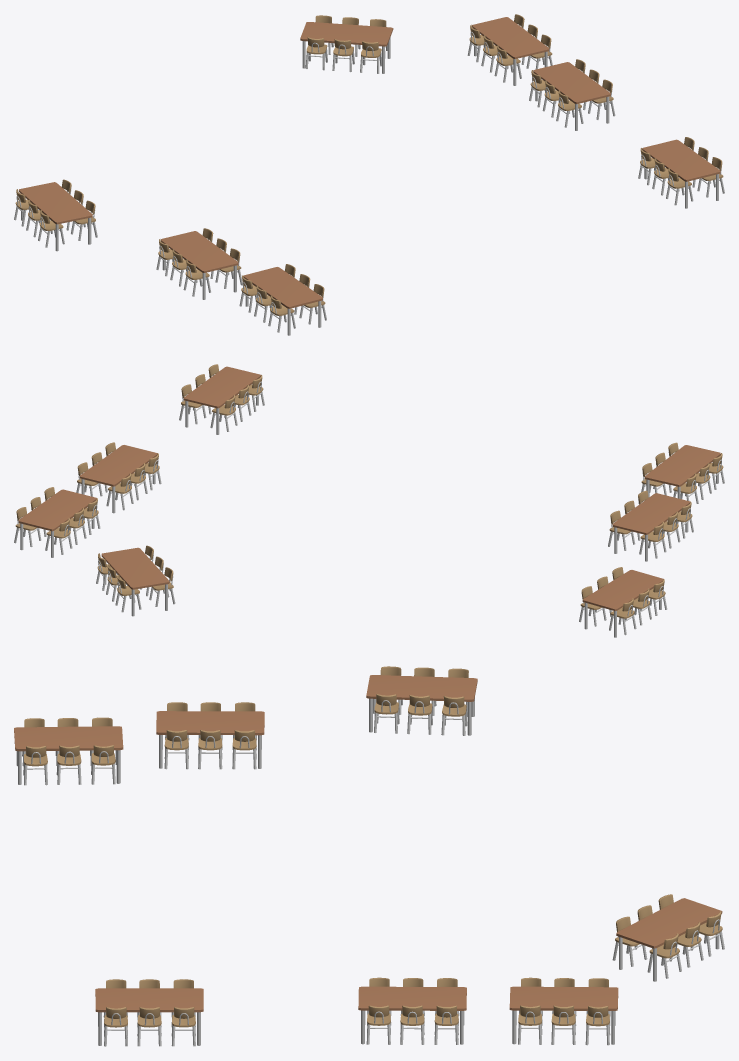
3 renders of one model, top to bottom at view 1: azimuth 30°, elevation 25°; view 2: azimuth 150°, elevation 25°; view 3: azimuth 270°, elevation 25°, orthographic. The views are drawn at different scales.
Parts seen in each view (by area): view 1: Tischgruppe 6er.002; view 2: Tischgruppe 6er.002; view 3: Tischgruppe 6er.002.
Boxes of the visible parts, box(x1,y1,x2,y2) form: Tischgruppe 6er.002: box(14, 14, 724, 335); Tischgruppe 6er.002: box(14, 364, 724, 637); Tischgruppe 6er.002: box(14, 666, 724, 1046).
Size of the model in its own units: 20.5 by 1.25 by 18.06.
3 materials, 3 textured.
